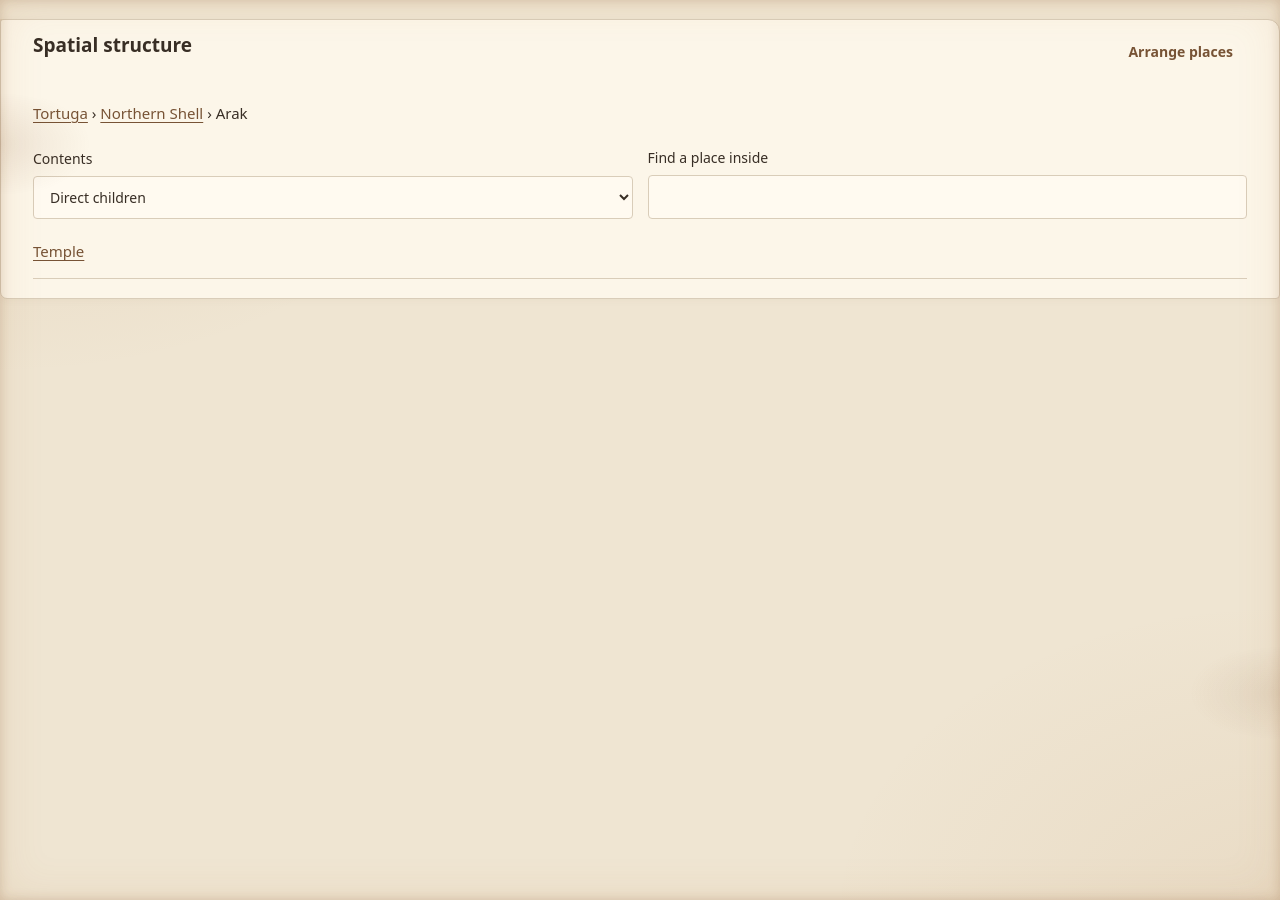
Test case: previews legal parents, keeps a failed move visible and updates breadcrumbs after retry
Click the button "Arrange places" at (1181, 52), box [1114,32,1247,72]
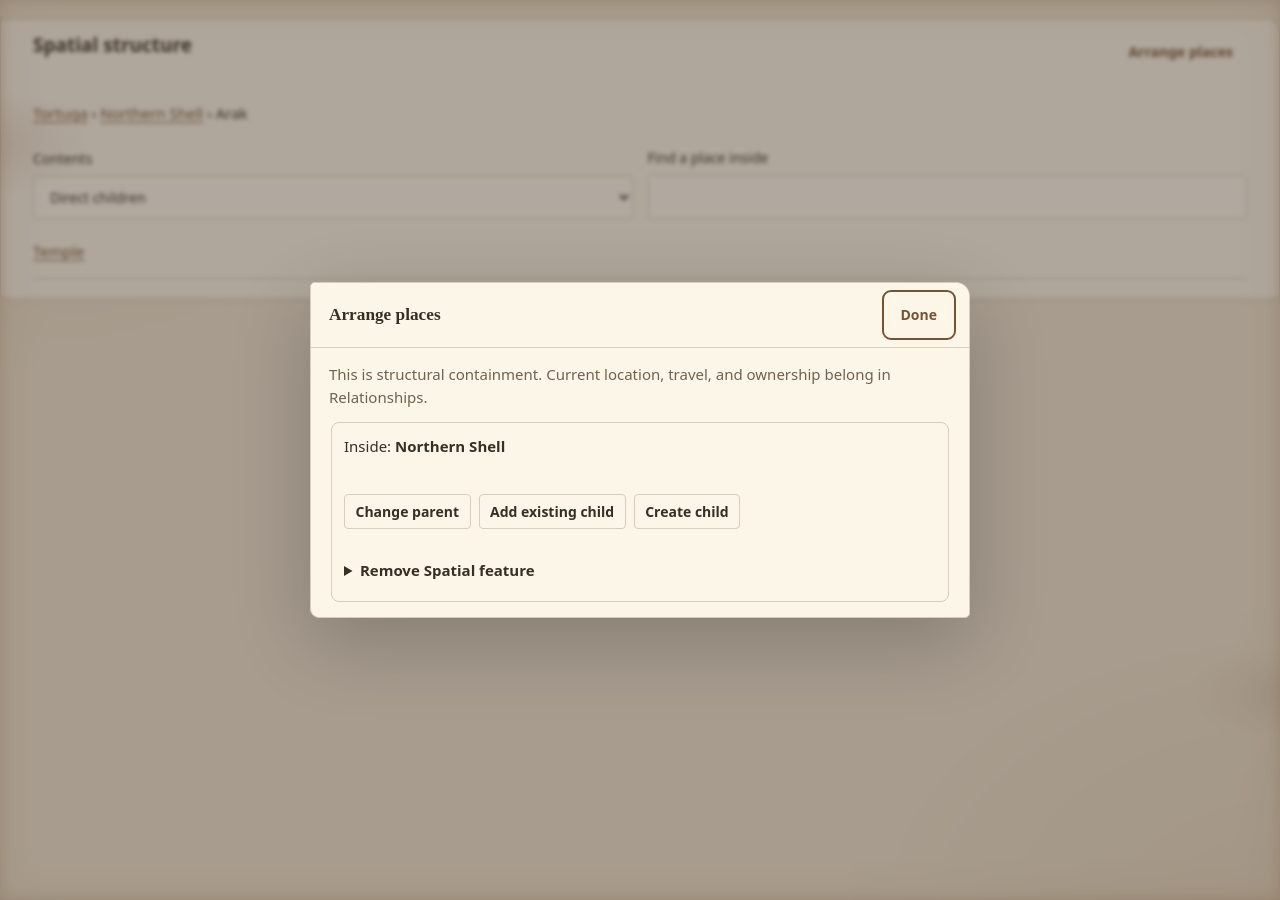
Click the button "Change parent" at (407, 512), box [344,494,470,530]
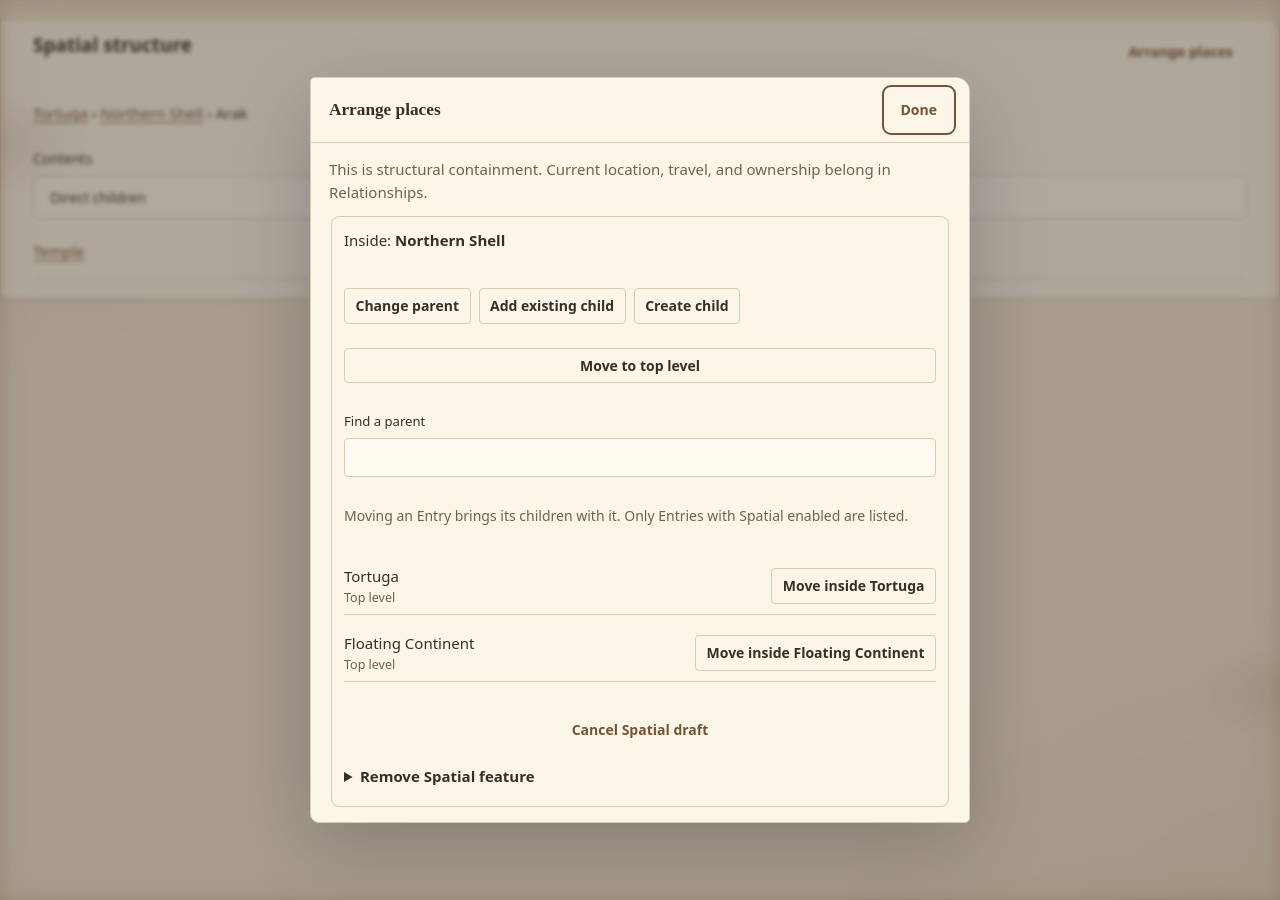
Click the button "Move inside Floating Continent" at (816, 653), box [695,635,936,671]
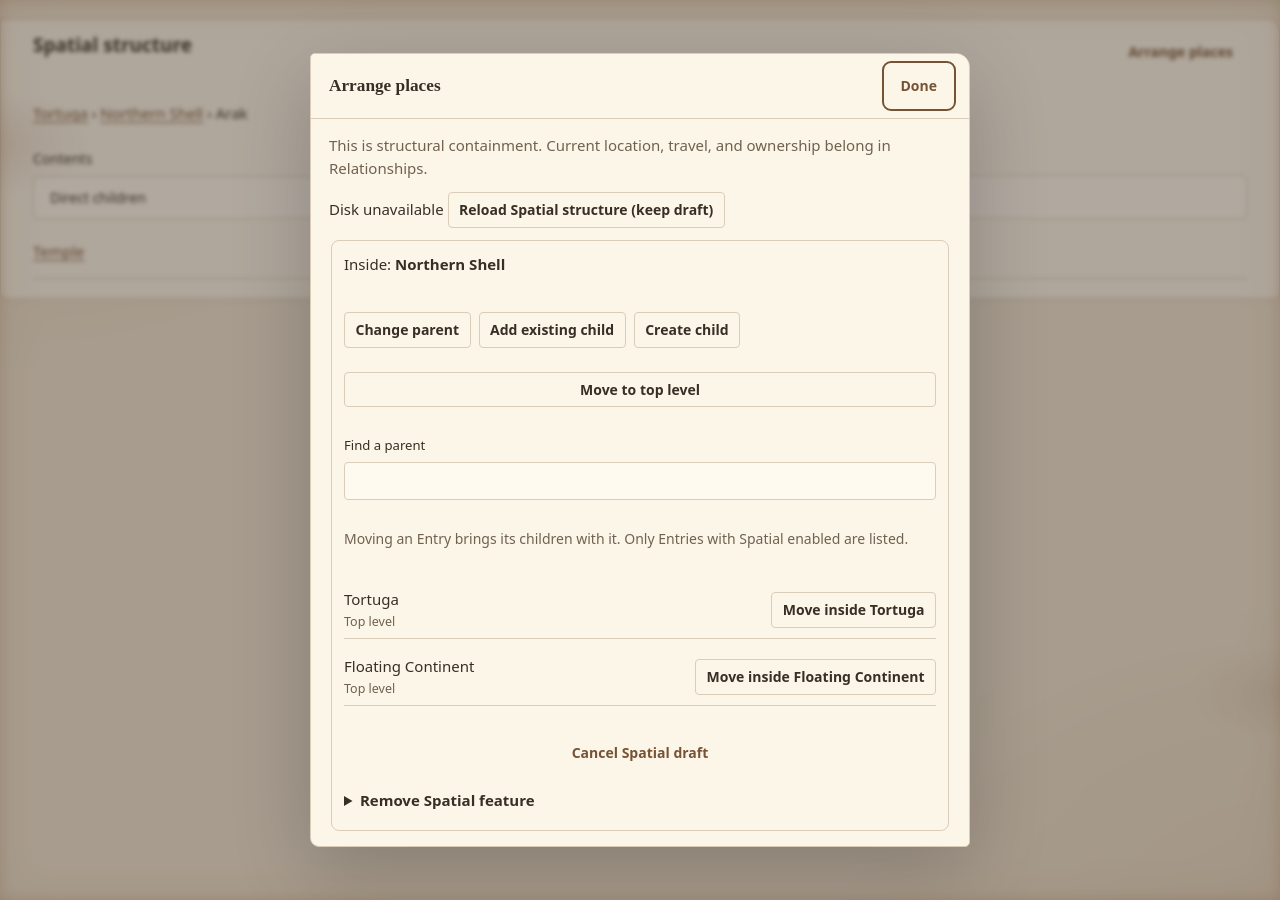
Result: the message "Disk unavailable Reload Spatial structure (keep draft)" is shown at [329,192,725,228]
Click the button "Move inside Floating Continent" at (816, 677), box [695,659,936,695]
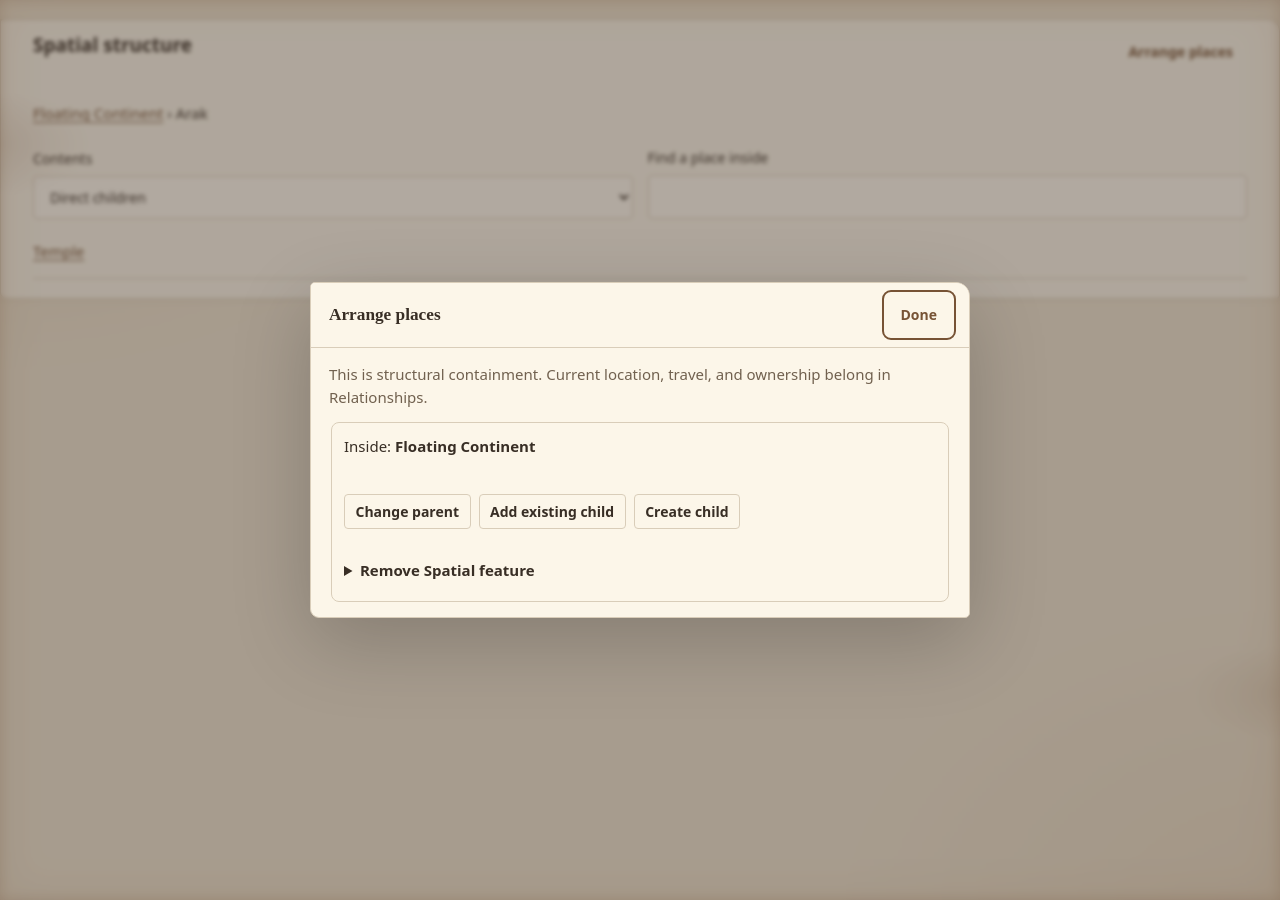
Result: the navigation bar named "Spatial breadcrumbs" reads "Floating Continent › Arak" at [33,94,208,132]
